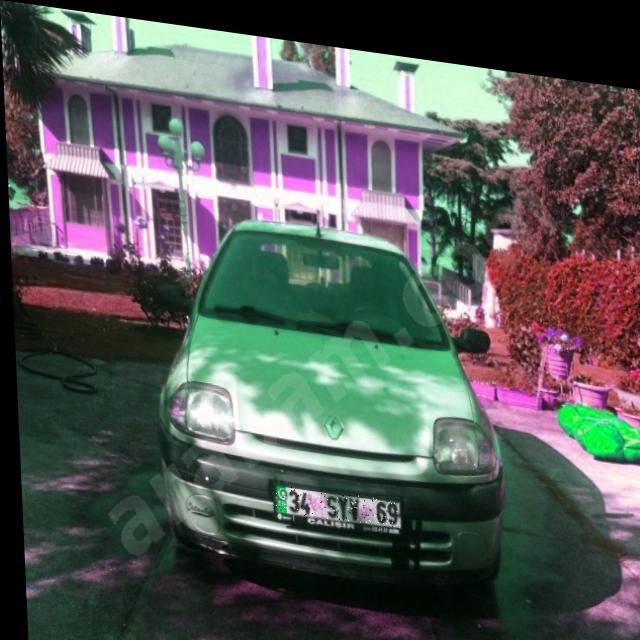license_plate: (270, 476, 398, 518)
